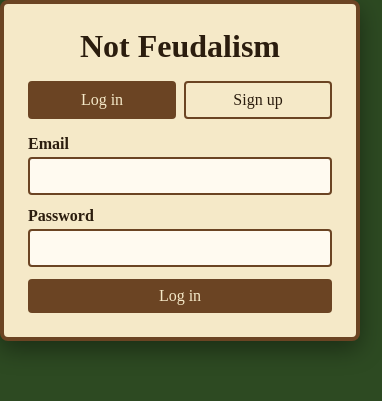
Test: AuthScreen › shows the server's reason when login fails
The width and height of the screenshot is (382, 401).
In the field labelled "Email": (180, 176) [28,157,332,195], type "alice@example.test"
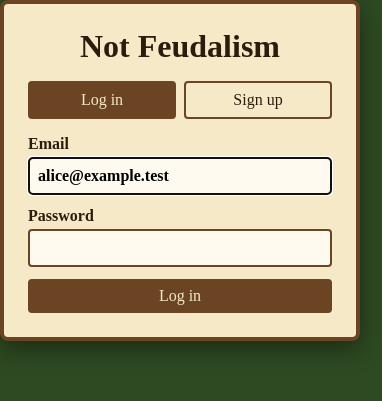
In the password field labelled "Password": (180, 248) [28,229,332,267], type "wrong password"
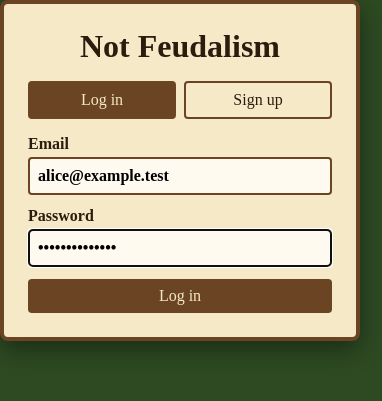
Click the button "Log in": click(180, 296) [28,279,332,313]
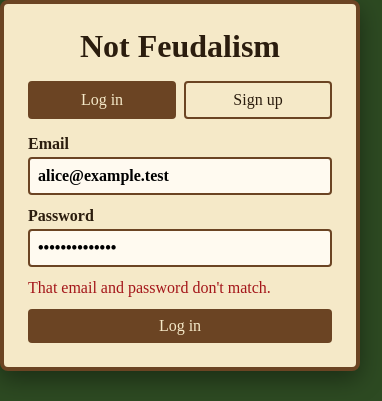
Check: the message reads "That email and password don't match.", box [28,279,271,296]
